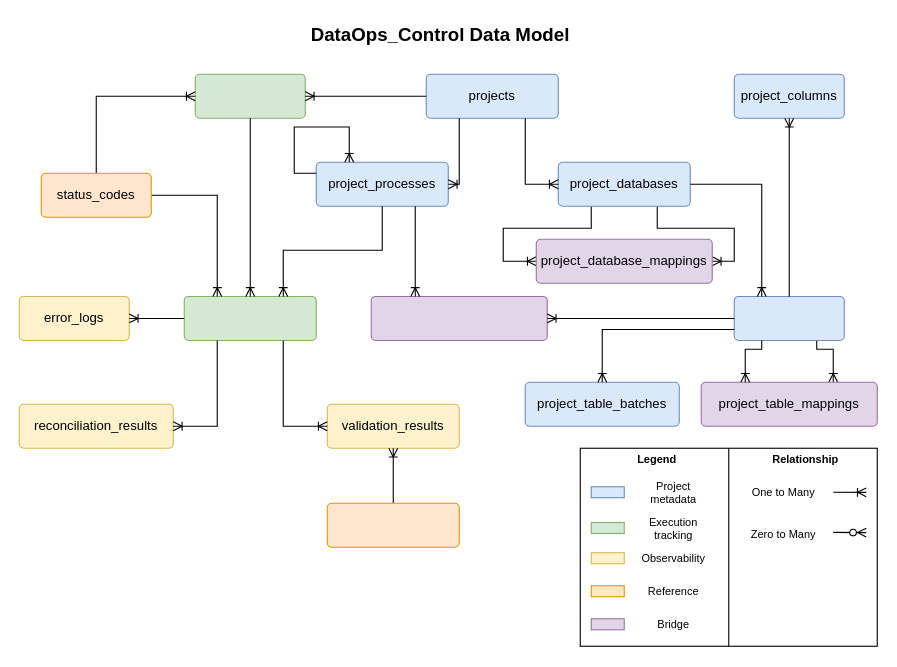
The diagram is 897 pixels wide and 667 high, and some of its shapes have lost their labels. Here are the shapes that lost their labels. From the top down, the box of each, then its label:
(194, 73, 305, 118): execution_runs
(183, 295, 316, 340): execution_steps
(370, 295, 547, 340): project_process_tables
(733, 295, 844, 340): project_tables
(326, 502, 459, 547): validation_codes
